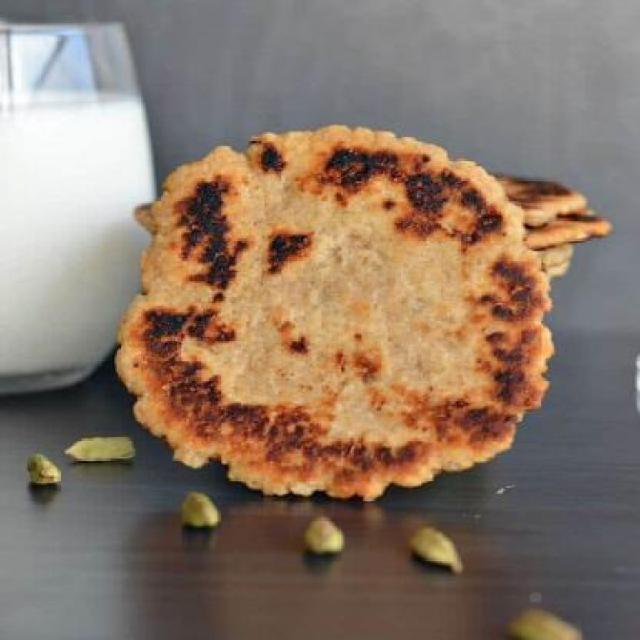chapati: (118, 126, 553, 500)
